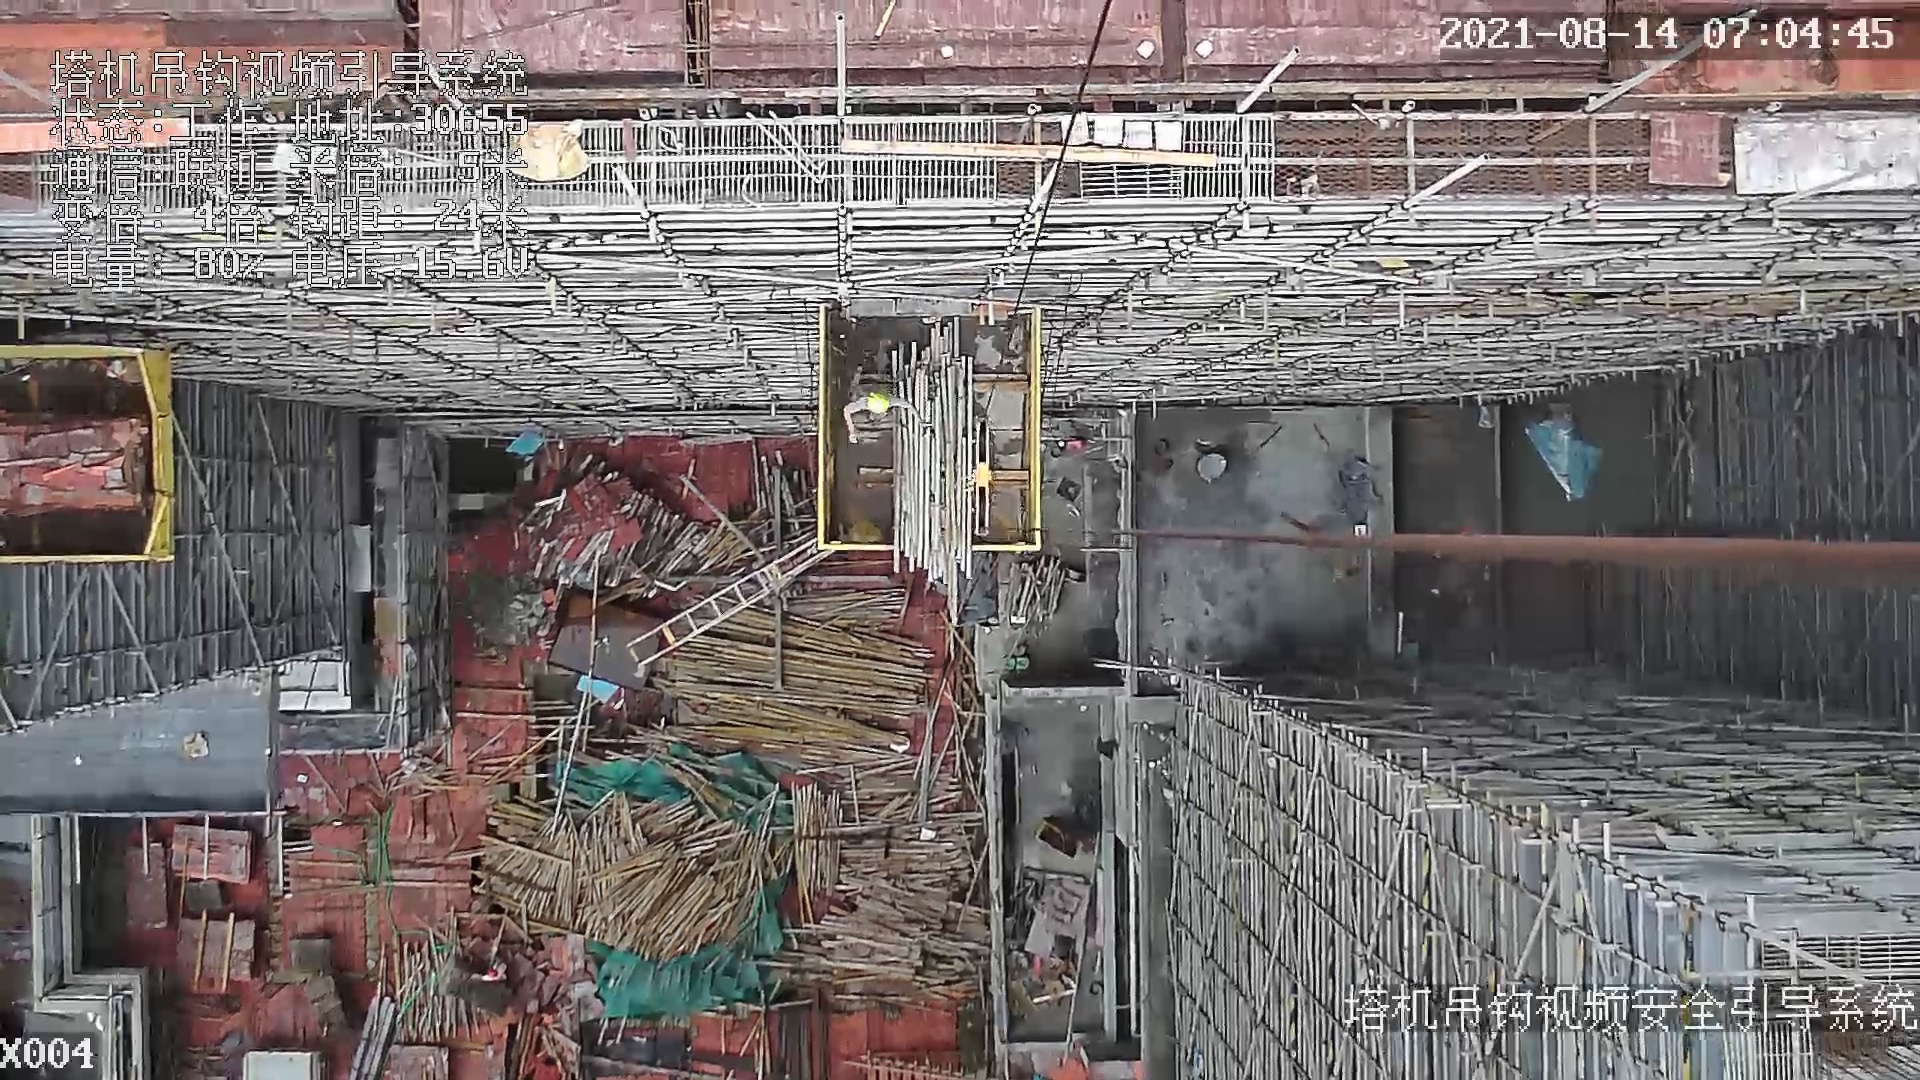helmet: (867, 393, 895, 415)
hook: (963, 418, 995, 537)
person: (841, 390, 932, 439)
